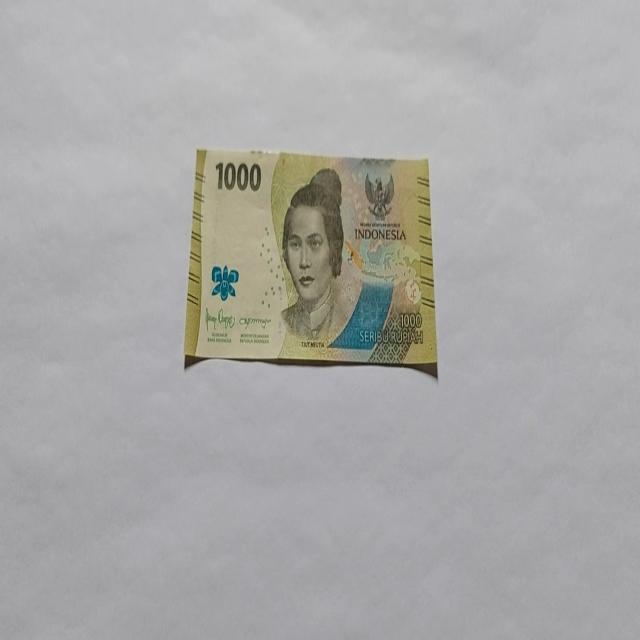seribu rupiah kertas: (182, 146, 438, 374)
